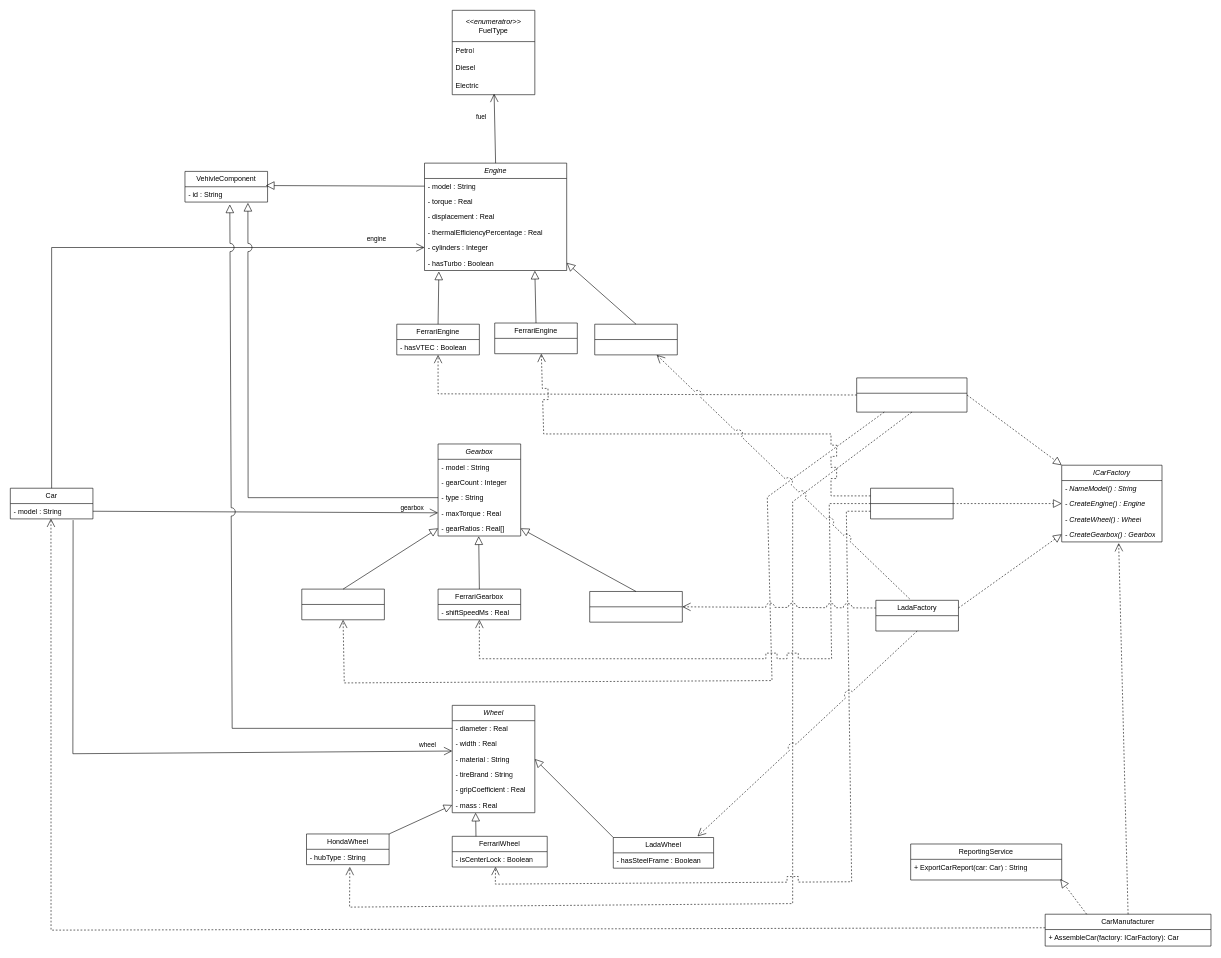
Some shapes in this 1221 by 958 pixel diagram are drawn without their labels. Each missing label, with the centre of its shape:
"FerrariFactory" belongs at pixel 911 503.
"HondaFactory" belongs at pixel 911 394.
"HondaGearbox" belongs at pixel 342 604.
"LadaEngine" belongs at pixel 635 339.
"LadaGearbox" belongs at pixel 635 606.
